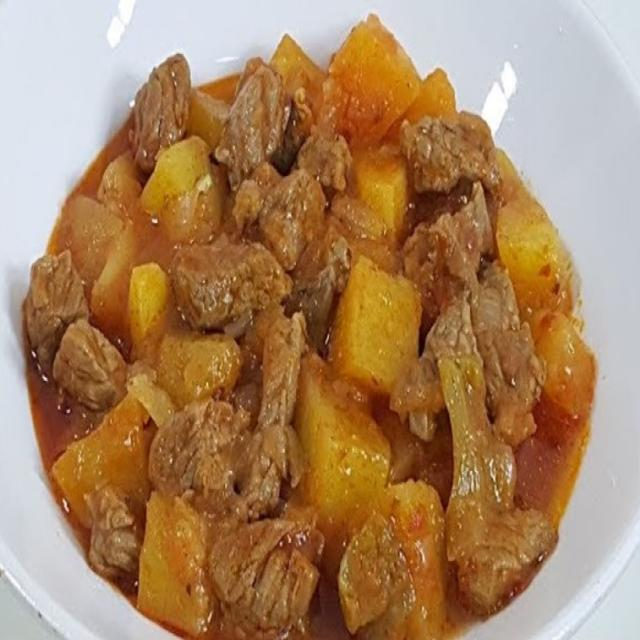ana_yemek: (21, 11, 596, 637)
